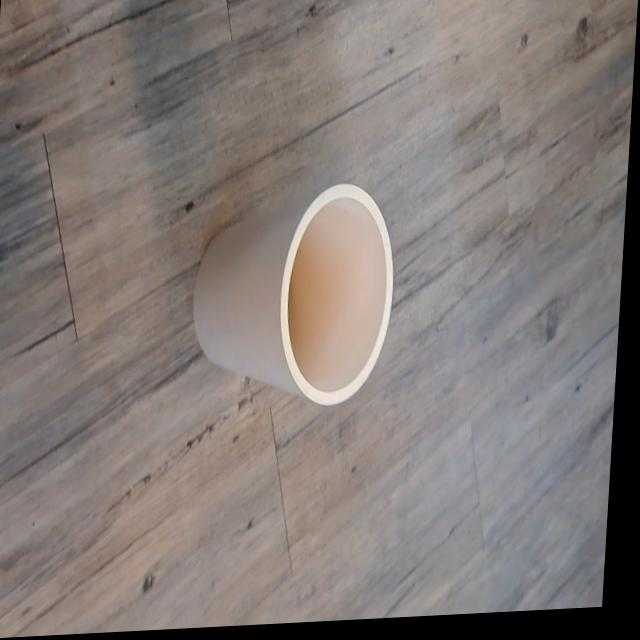CORAL: (164, 150, 418, 442)
